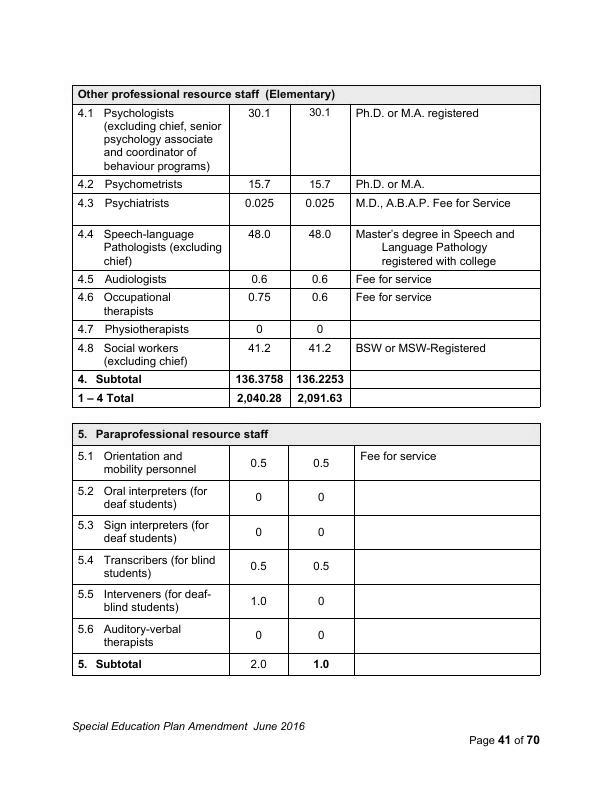table: (69, 82, 546, 412), (68, 419, 545, 681)
text: (69, 716, 308, 737), (466, 730, 544, 749)
